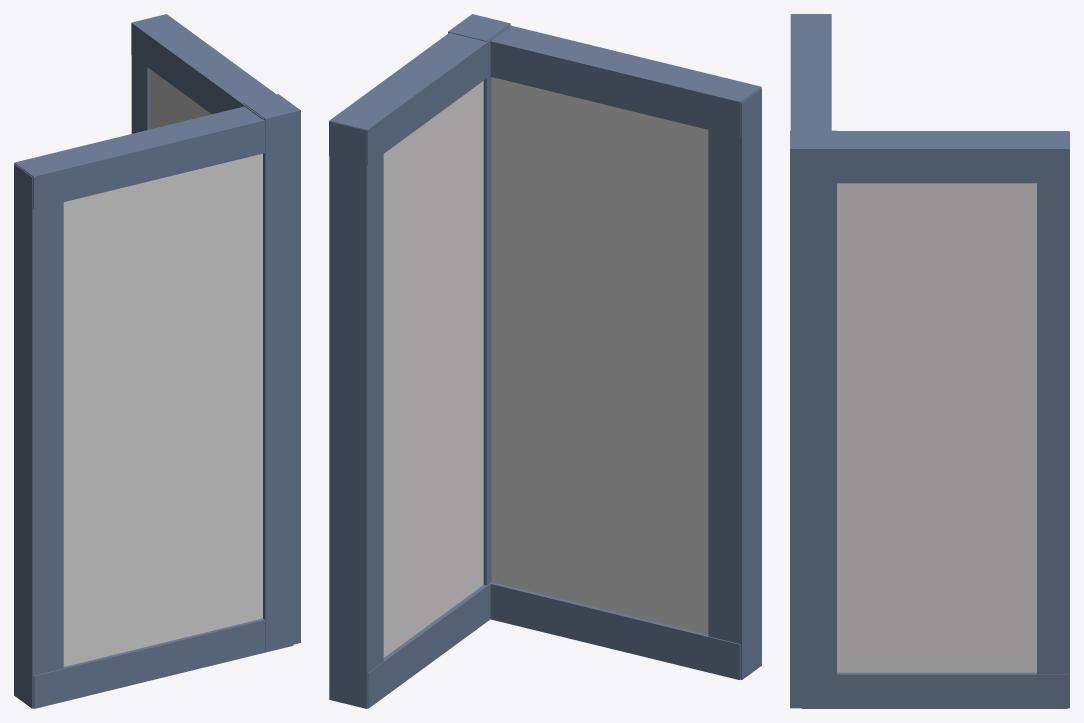
File: 01_wall_outer_corner.glb
3 views of the same model, side by side, from view 1: azimuth 30°, elevation 25°; view 2: azimuth 150°, elevation 25°; view 3: azimuth 270°, elevation 25° (orthographic). The views are drawn at different scales.
Parts seen in each view (by area): view 1: part_1.004, part_7.004, part_4.004, part_3.004, part_5.005, part_4.007, part_2.004, part_8.003; view 2: part_1.004, part_2.004, part_8.003, part_7.004, part_3.004, part_5.005, part_4.007, part_4.004, part_6.004; view 3: part_2.004, part_4.004, part_8.003, part_4.007, part_6.004, part_3.004.
Part boxes in pixels (x1,y1,x2,y2): part_1.004: (63, 153, 262, 666); part_7.004: (14, 164, 63, 708); part_4.004: (243, 94, 300, 651); part_3.004: (14, 106, 264, 209); part_5.005: (33, 618, 293, 708); part_4.007: (131, 14, 276, 119); part_2.004: (150, 69, 211, 129); part_8.003: (131, 56, 150, 133); part_1.004: (491, 77, 708, 634); part_2.004: (383, 81, 483, 657); part_8.003: (329, 121, 383, 708); part_7.004: (708, 88, 761, 679); part_3.004: (490, 25, 761, 137); part_5.005: (489, 582, 740, 679); part_4.007: (329, 25, 510, 165); part_4.004: (448, 14, 510, 585); part_6.004: (367, 583, 490, 708); part_2.004: (837, 183, 1036, 672); part_4.004: (790, 130, 836, 708); part_8.003: (1037, 131, 1069, 708); part_4.007: (837, 131, 1069, 183); part_6.004: (801, 672, 1067, 708); part_3.004: (790, 14, 831, 130).
Bounding box in the file's own units: 1.58 × 3 × 1.36.
